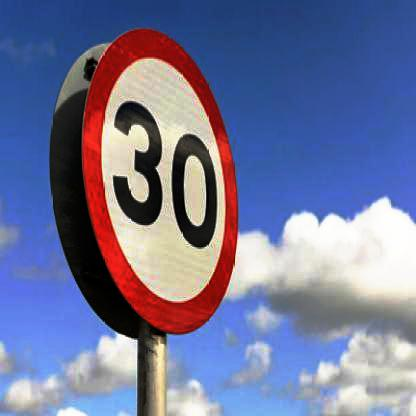Speed Limit -30-: (79, 15, 244, 336)
